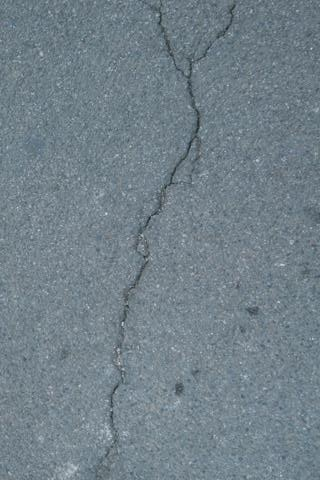A: (91, 1, 237, 465)
